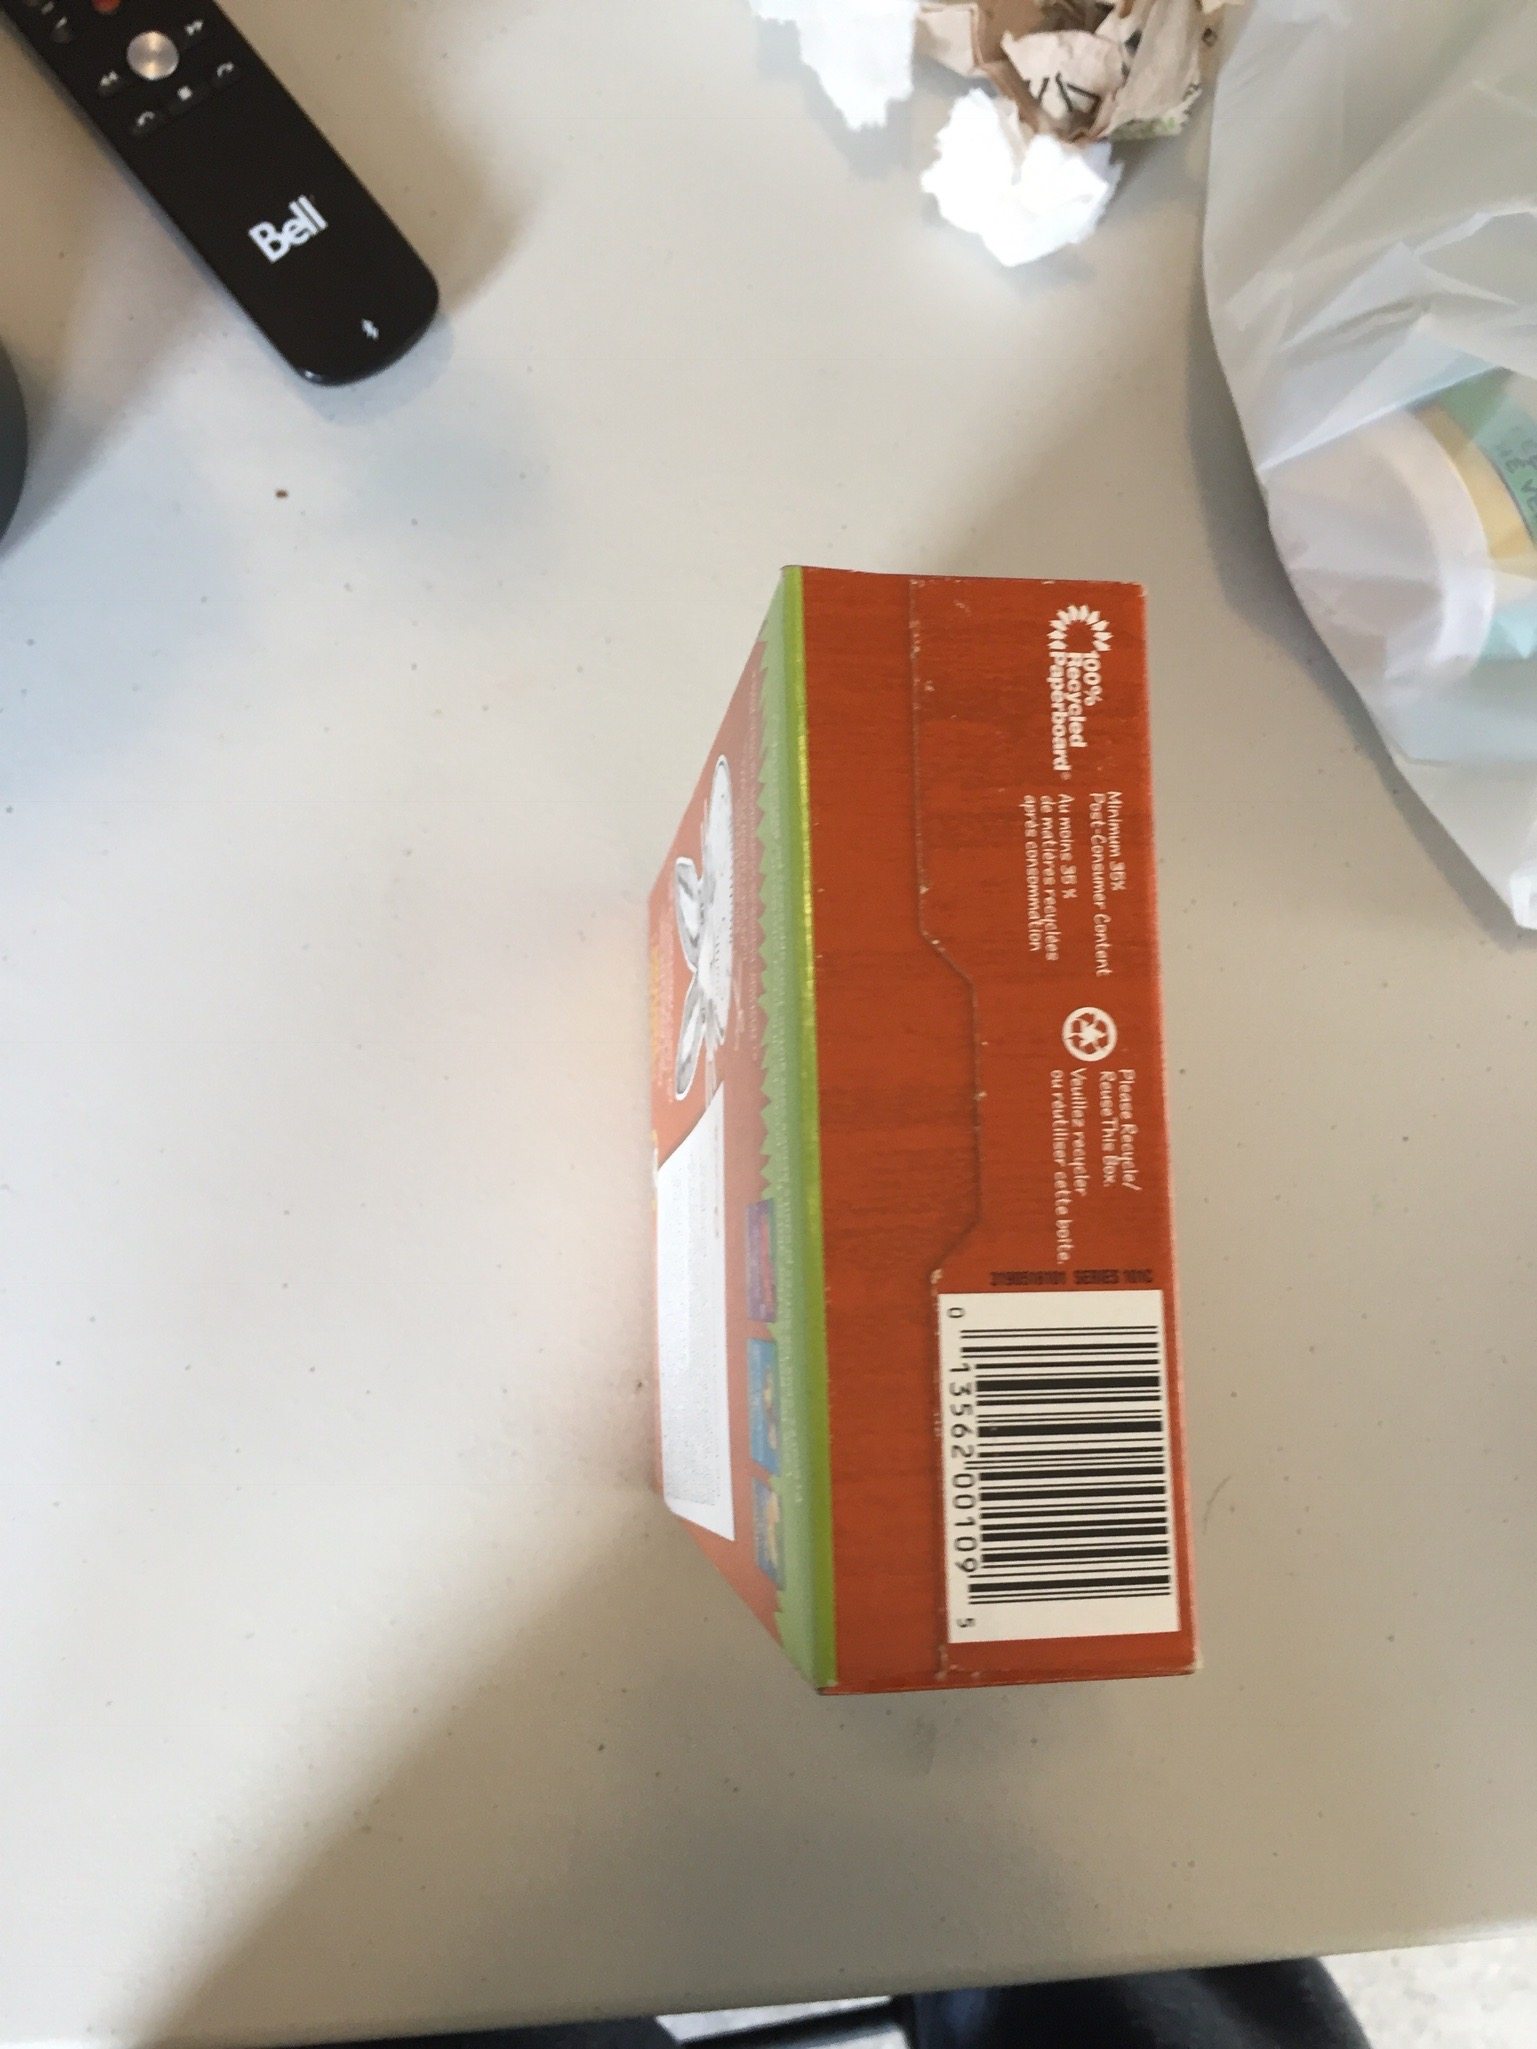annies_snickerdoodle_cinnamon_sugar: (799, 572, 1179, 1682)
